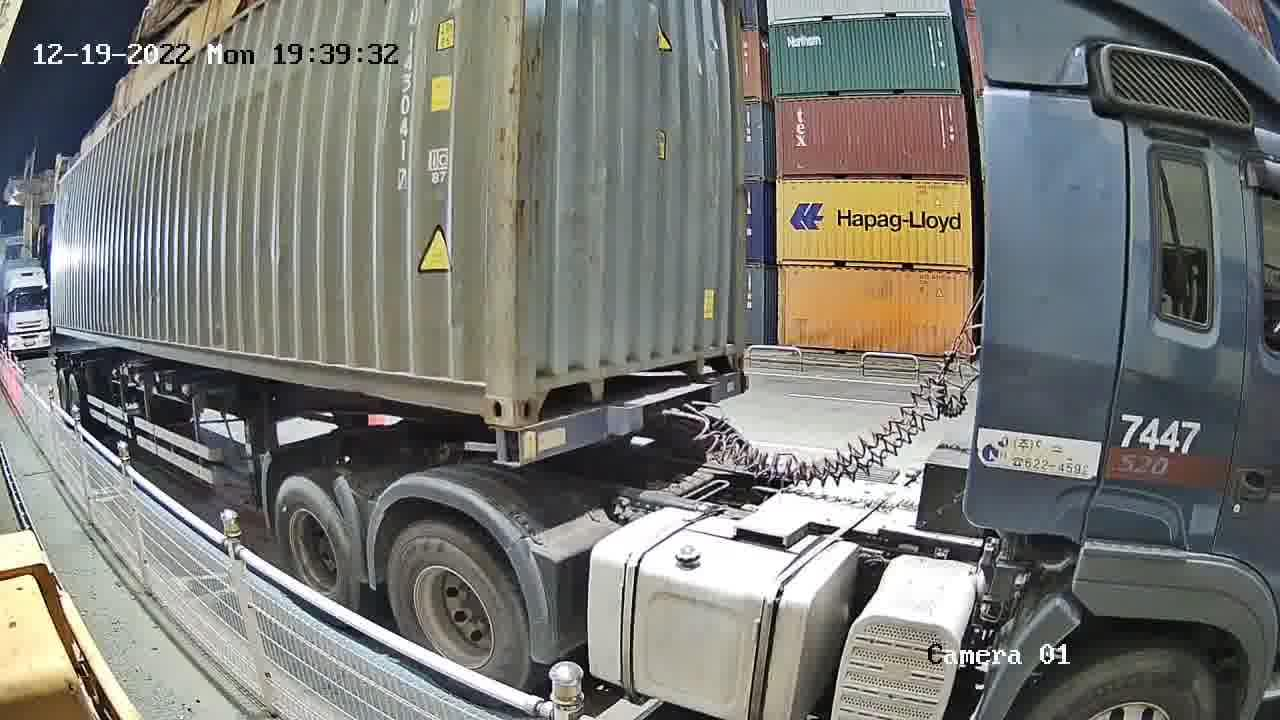Chassis: (491, 372, 749, 466)
Cone: (485, 424, 519, 466)
Hole_L: (512, 355, 575, 427)
Hole_R: (457, 353, 513, 430), (708, 331, 746, 377)
Tire: (388, 522, 527, 683), (274, 477, 351, 601)
